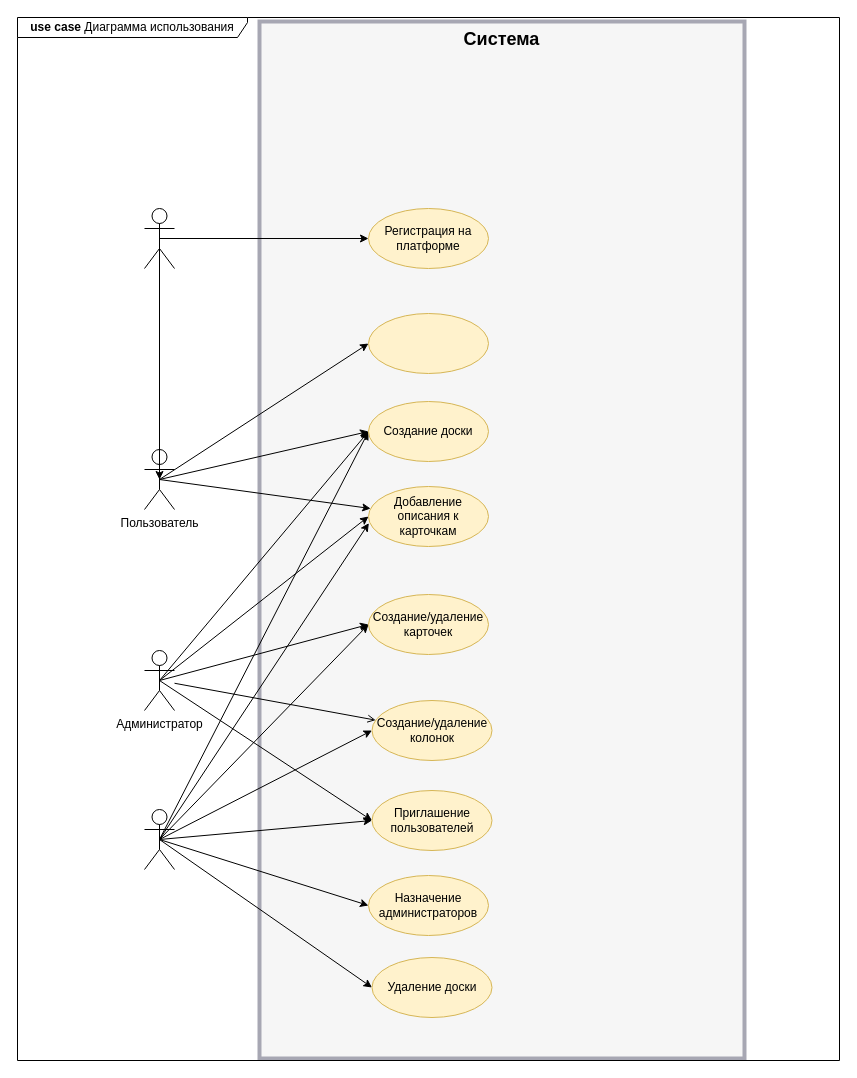
This 857x1078 diagram has some shape labels left out. The shapes that lost their labels are listed below. From the top down, each one's box as (x1, y1, x2, y2) in pixels, then its label:
(144, 208, 174, 268): Незарегистрированный пользователь
(368, 312, 488, 374): Авторизация на платформе
(144, 808, 174, 870): Владелец
